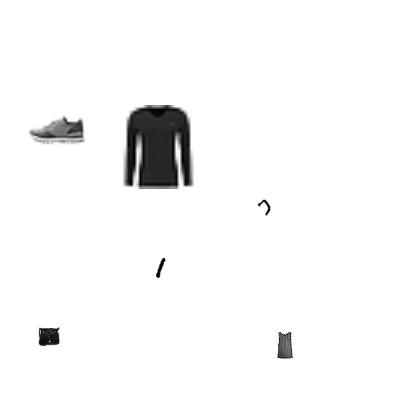1: (146, 253, 174, 281)
7: (254, 195, 276, 217)
Bag: (38, 325, 60, 347)
Pullover: (115, 105, 199, 189)
Sneaker: (29, 102, 85, 158)
T-shirt/top: (271, 331, 299, 359)
